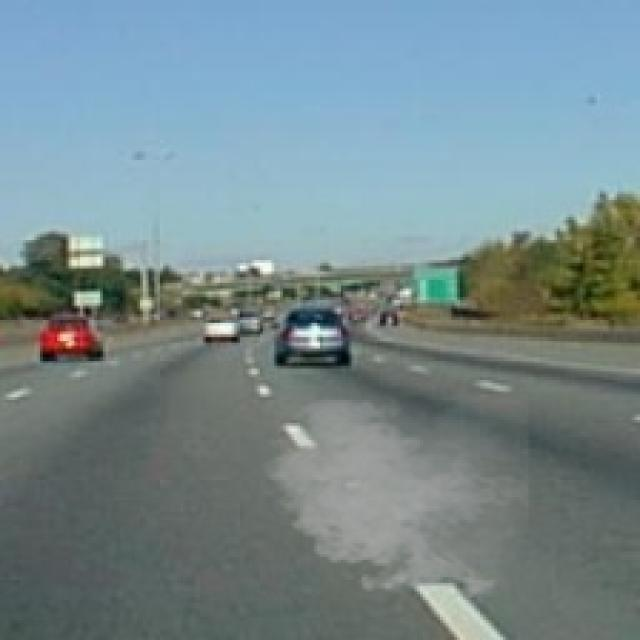Smoke: (254, 391, 529, 606)
